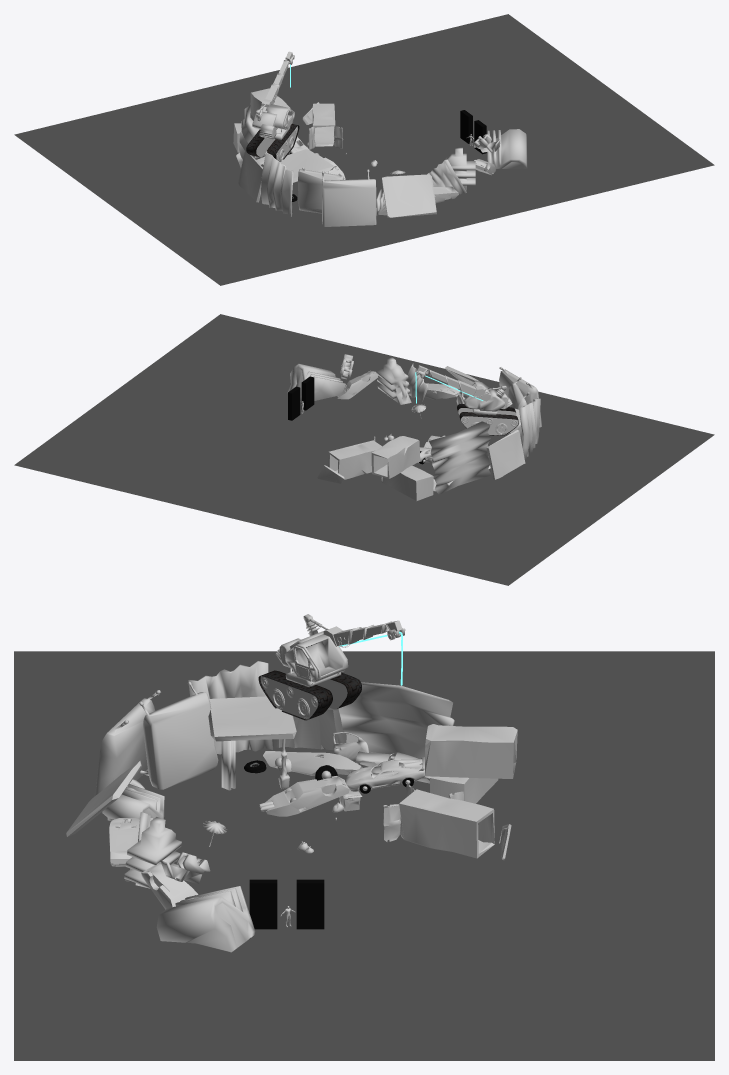
The model's file is 4HangingCable.fbx.
3 renders of one model, top to bottom at view 1: azimuth 30°, elevation 25°; view 2: azimuth 150°, elevation 25°; view 3: azimuth 270°, elevation 25°, orthographic. The views are drawn at different scales.
Visible parts, largest first — view 1: Plane.007, yello.006, lp.020, Corrugated Roof.022, yello.004, lp.016, yello.010, yello.002, lp.021, lp.017, yello.005, Corrugated Roof.015 (+5 smaller); view 2: Plane.007, Corrugated Roof.014, lp.013, lp.016, lp.017, yello.004, lp.012, yello.005, Corrugated Roof.022, yello.002, Tankwheel.004, yello.003 (+4 smaller); view 3: Plane.007, Corrugated Roof.014, lp.016, yello.010, lp.013, yello.004, lp.021, yello.006, yello.002, Corrugated Roof.022, Tankwheel.001, yello.005 (+15 smaller).
Part boxes in pixels (left/top/right/bottom): Plane.007: left=14, top=14, right=714, bottom=285; yello.006: left=322, top=169, right=376, bottom=226; lp.020: left=382, top=174, right=436, bottom=217; Corrugated Roof.022: left=261, top=150, right=293, bottom=216; yello.004: left=487, top=129, right=527, bottom=168; lp.016: left=308, top=103, right=343, bottom=149; yello.010: left=298, top=167, right=343, bottom=213; yello.002: left=252, top=104, right=294, bottom=139; lp.021: left=261, top=149, right=334, bottom=182; lp.017: left=238, top=151, right=262, bottom=202; yello.005: left=445, top=147, right=475, bottom=190; Corrugated Roof.015: left=427, top=159, right=466, bottom=194; Plane.007: left=14, top=314, right=714, bottom=585; Corrugated Roof.014: left=429, top=421, right=491, bottom=494; lp.013: left=371, top=436, right=420, bottom=478; lp.016: left=328, top=436, right=381, bottom=479; lp.017: left=486, top=429, right=525, bottom=479; yello.004: left=287, top=364, right=345, bottom=402; lp.012: left=382, top=465, right=433, bottom=500; yello.005: left=376, top=357, right=411, bottom=404; Corrugated Roof.022: left=519, top=398, right=540, bottom=460; yello.002: left=461, top=381, right=512, bottom=415; Tankwheel.004: left=459, top=412, right=518, bottom=435; yello.003: left=415, top=365, right=506, bottom=401; Plane.007: left=14, top=651, right=714, bottom=1060; Corrugated Roof.014: left=338, top=682, right=454, bottom=758; lp.016: left=383, top=783, right=494, bottom=858; yello.010: left=139, top=681, right=218, bottom=789; lp.013: left=425, top=724, right=517, bottom=778; yello.004: left=156, top=886, right=255, bottom=952; lp.021: left=208, top=696, right=296, bottom=741; yello.006: left=94, top=690, right=161, bottom=796; yello.002: left=275, top=621, right=348, bottom=687; Corrugated Roof.022: left=188, top=661, right=272, bottom=754; Tankwheel.001: left=258, top=670, right=332, bottom=720; yello.005: left=124, top=817, right=181, bottom=888.
Size of the model in its own units: 7450 by 1935 by 5391.
